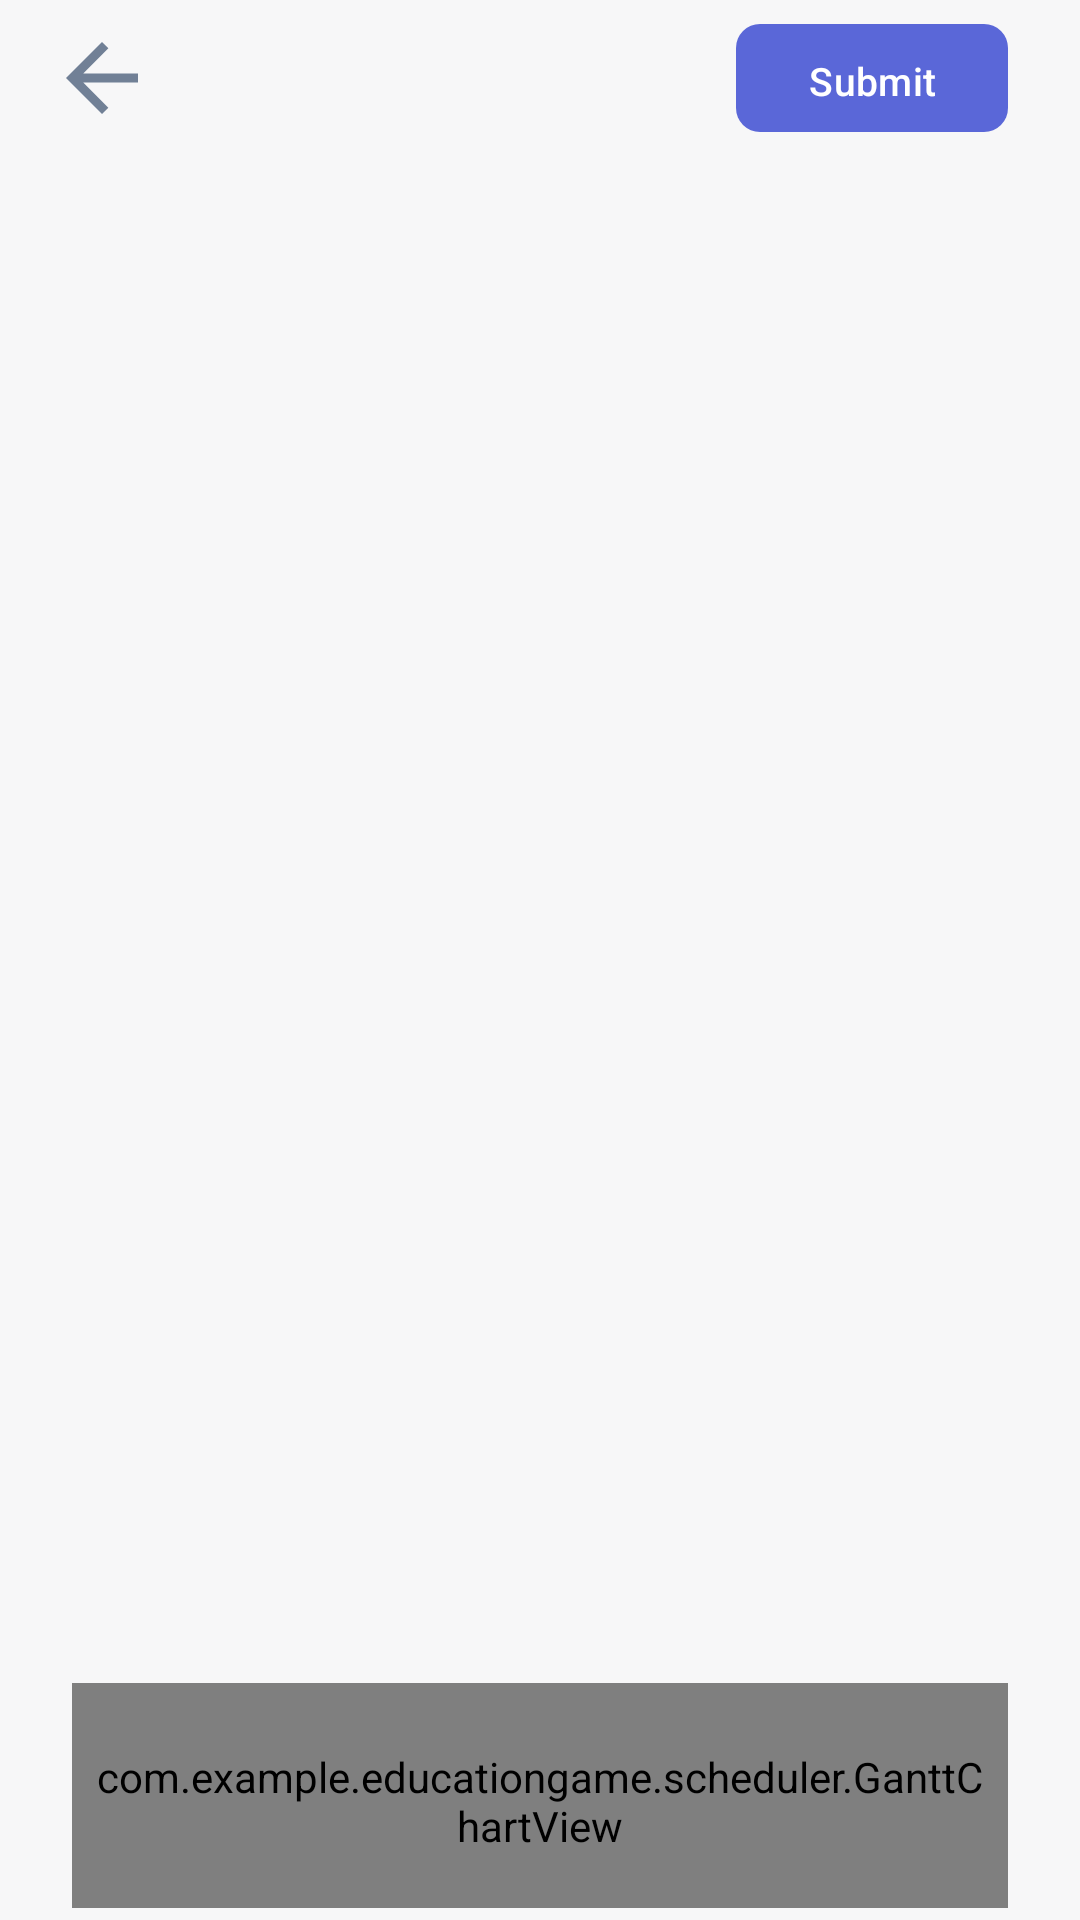

Named icons in this screenshot (1080w x 1920h) and their bounding boxes, [x1,y1,x2,y2]:
Back: [66,42,138,114]
